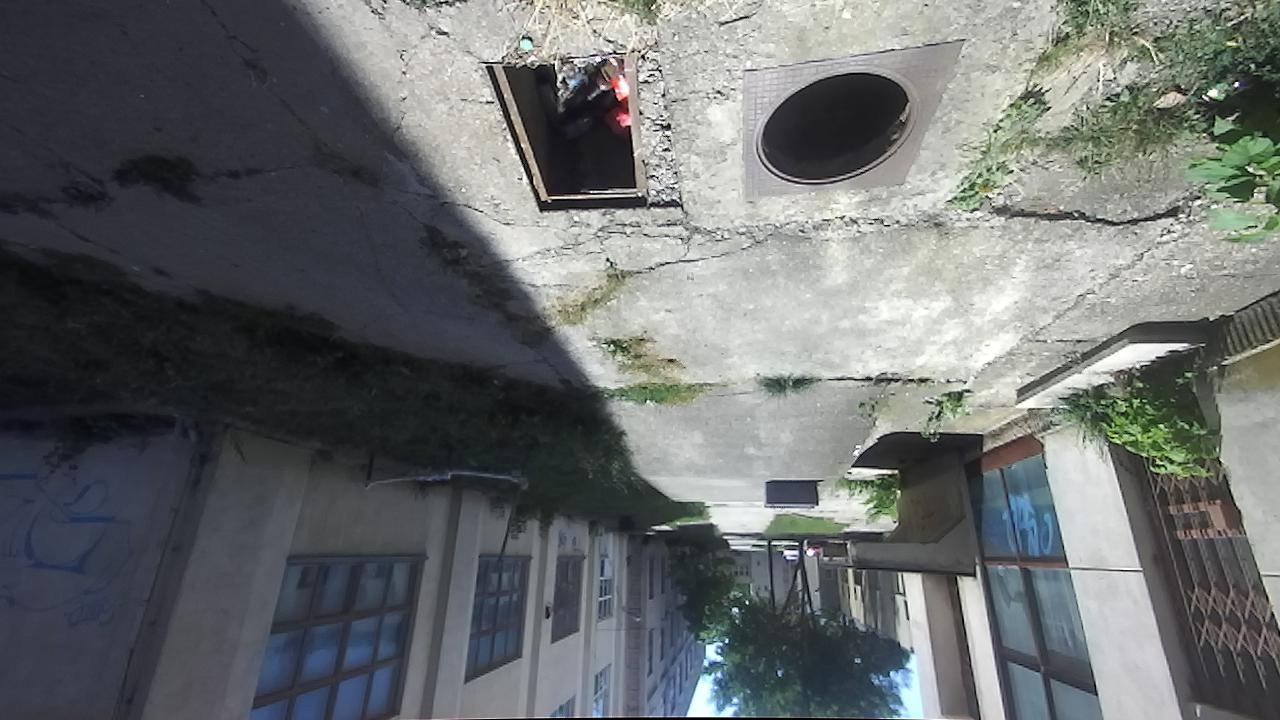drain: (470, 51, 655, 217), (752, 61, 924, 190)
